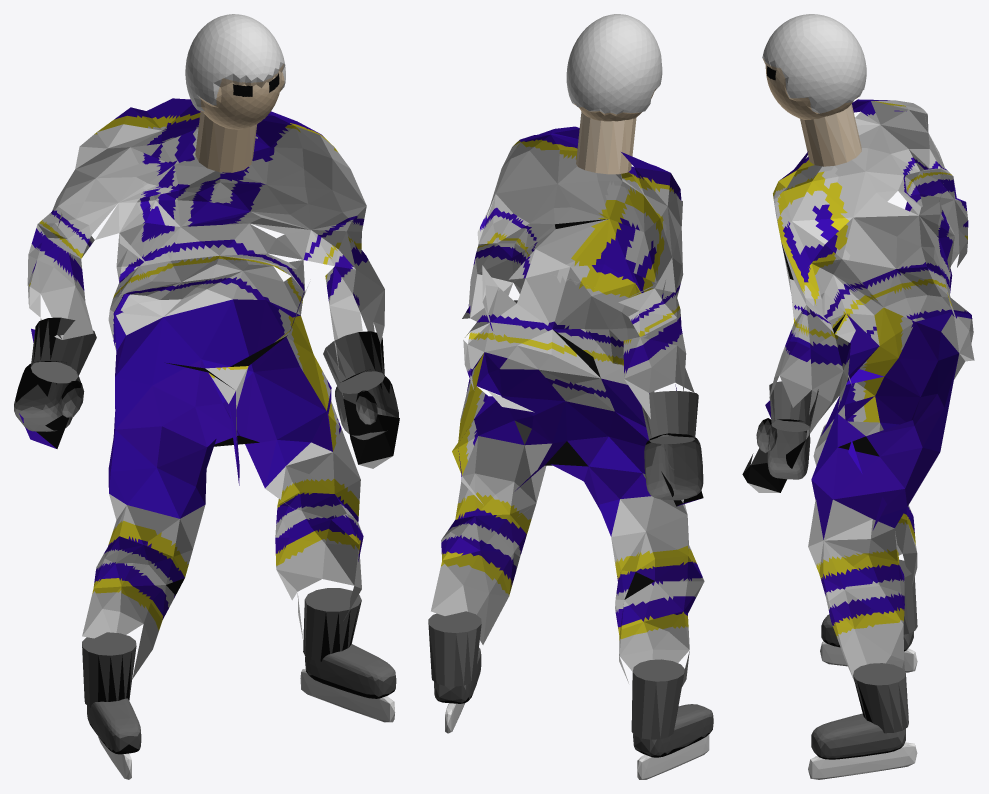
File: nhl96pc_buffalo_player_clean_v4.glb
3 views of the same model, side by side, from view 1: azimuth 30°, elevation 25°; view 2: azimuth 150°, elevation 25°; view 3: azimuth 270°, elevation 25° (orthographic). The views are drawn at different scales.
Parts seen in each view (by area): view 1: geometry_0; view 2: geometry_0; view 3: geometry_0.
Boxes of the visible parts, x1,y1,x2,y2 form: geometry_0: (14,14,399,779); geometry_0: (428,14,713,779); geometry_0: (742,14,974,779).
Size of the model in its own units: 25.98 by 58.37 by 17.73.
